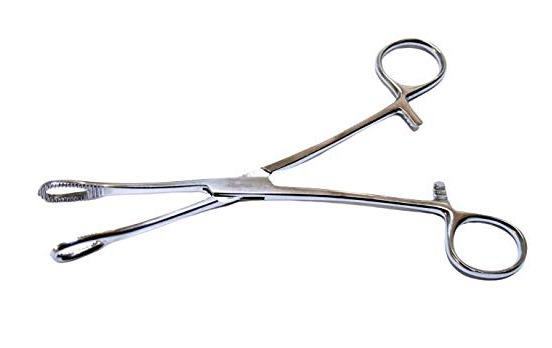Sponge Holding Forceps: (32, 34, 529, 286)
